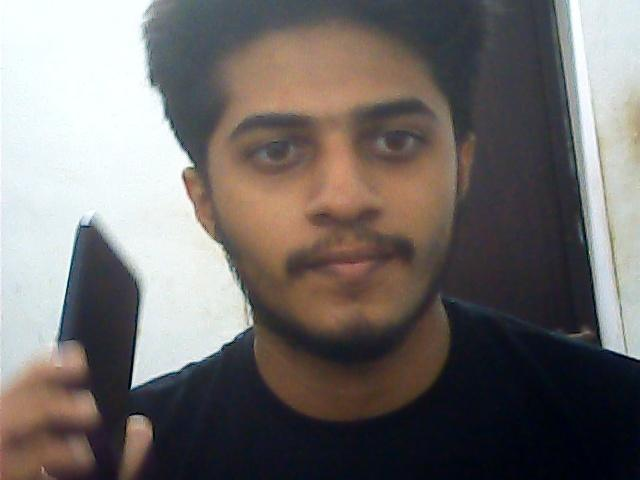PhoneUse: (55, 210, 143, 466)
SafeDriving: (352, 107, 439, 168), (232, 120, 324, 176)
